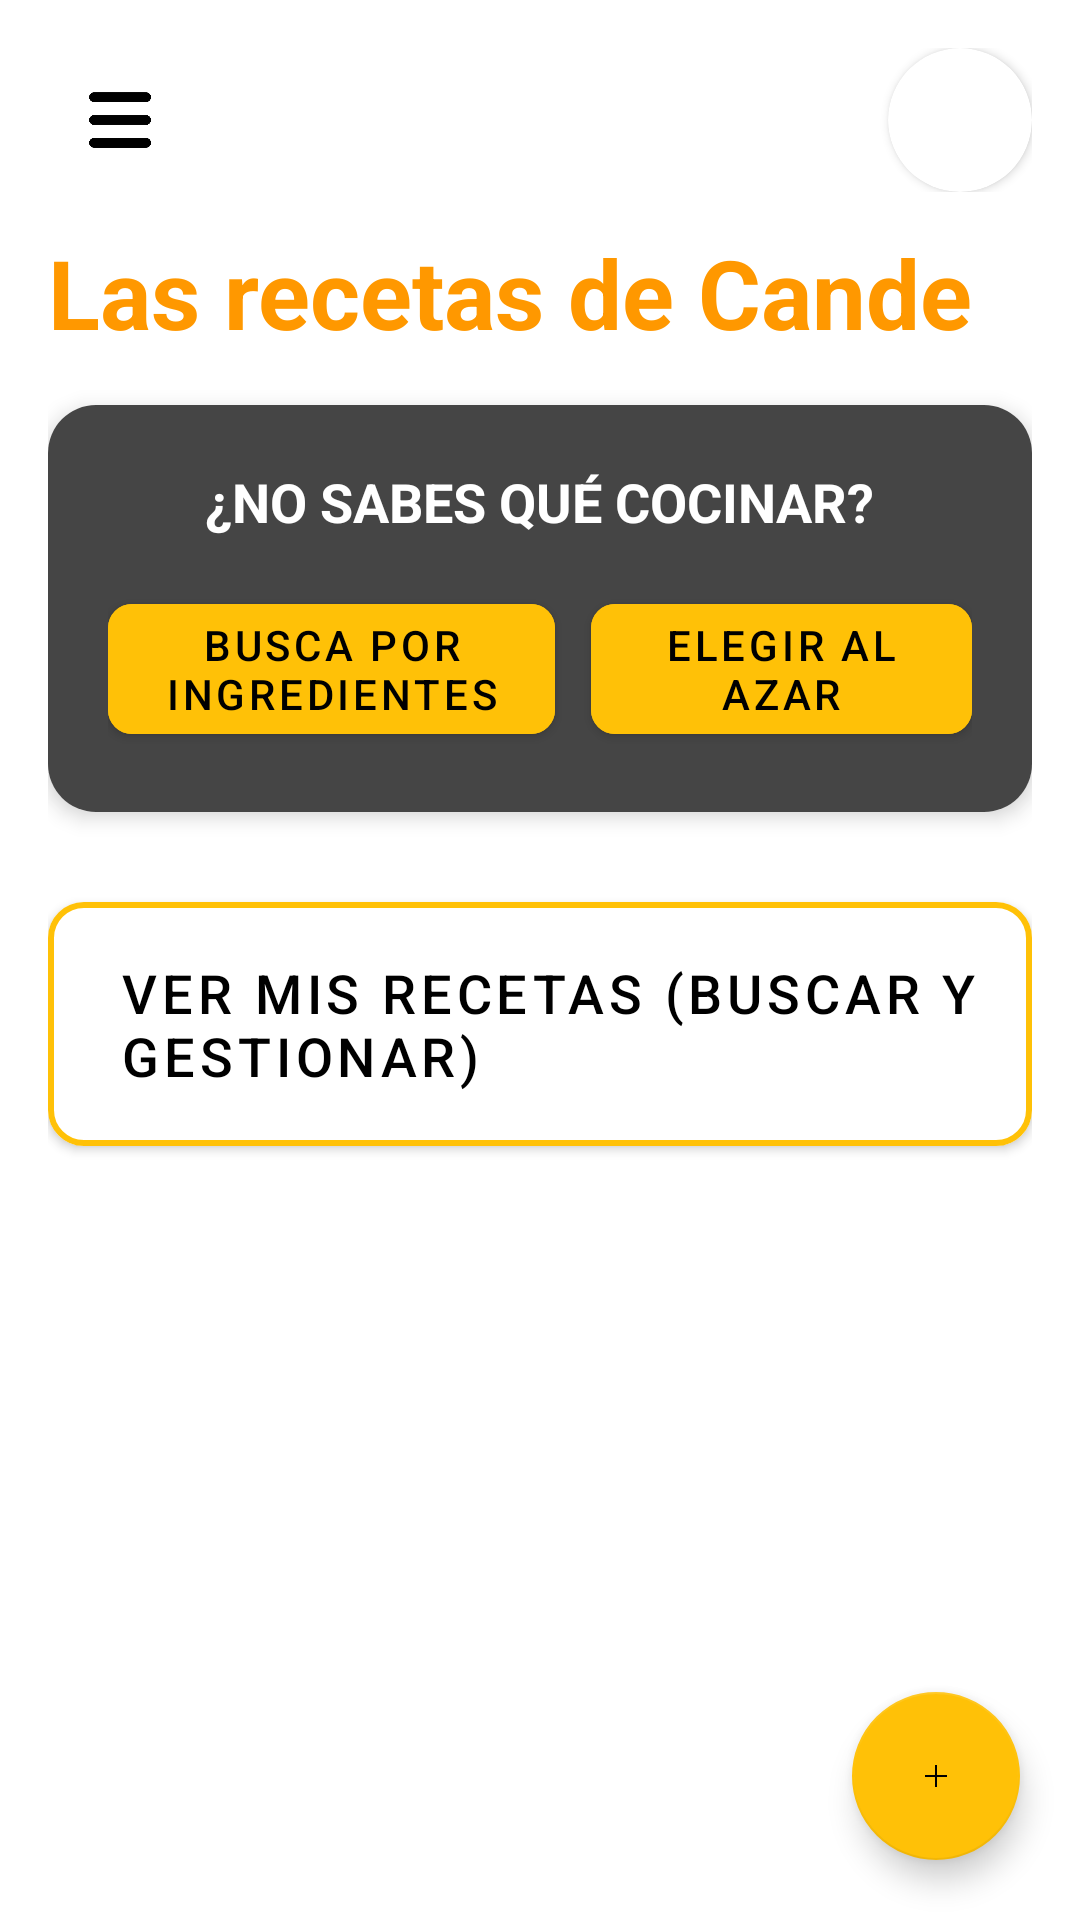

Icons on this 1080x1920 Android screen, each with its box as {"x1": x1, "y1": y1, "x2": x2, "y2": y2}:
Abrir menú: {"x1": 89, "y1": 92, "x2": 151, "y2": 148}
Agregar nueva receta: {"x1": 852, "y1": 1692, "x2": 1020, "y2": 1860}
